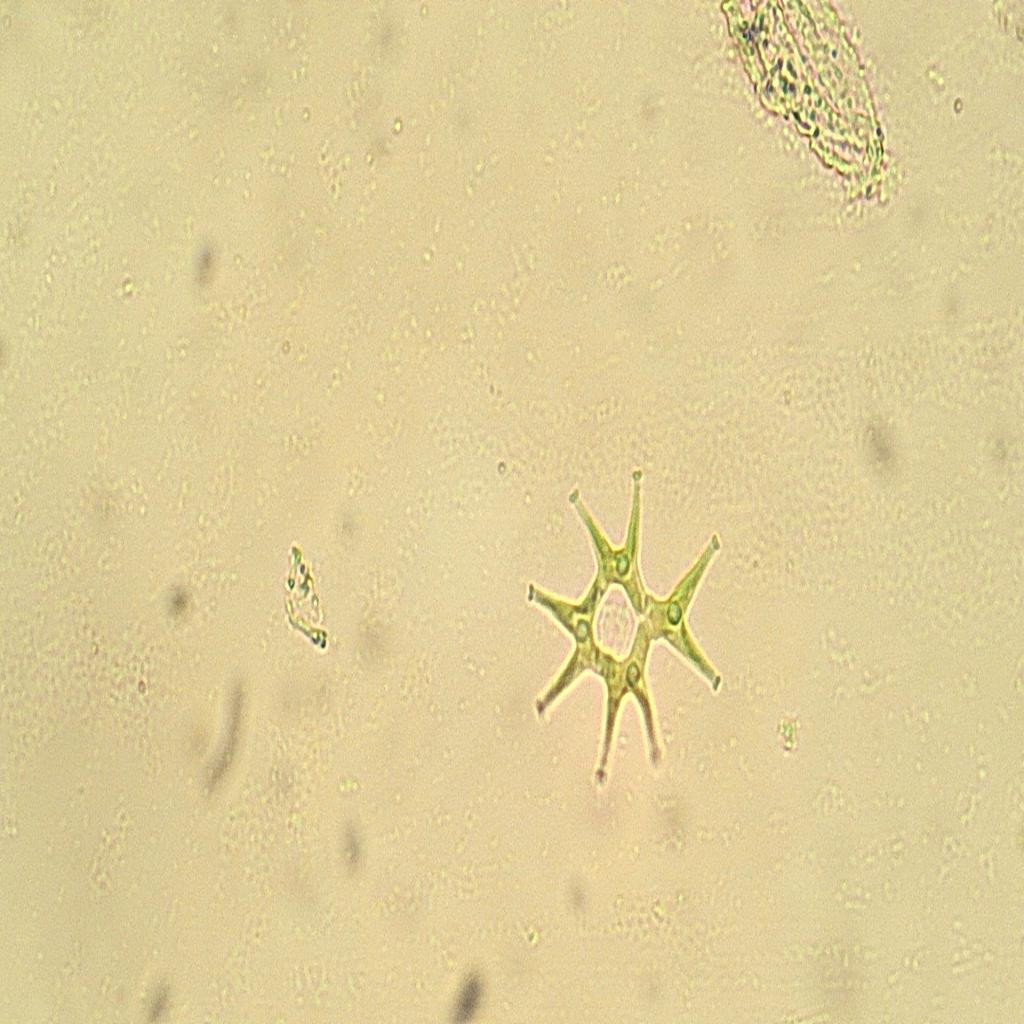Pediastrum_CT: (502, 456, 743, 798)
